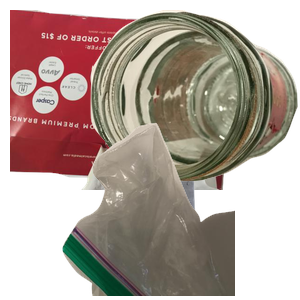glass: (90, 10, 300, 184)
paper: (10, 10, 238, 190)
plastic: (96, 120, 285, 300)
trash: (60, 120, 300, 300)
